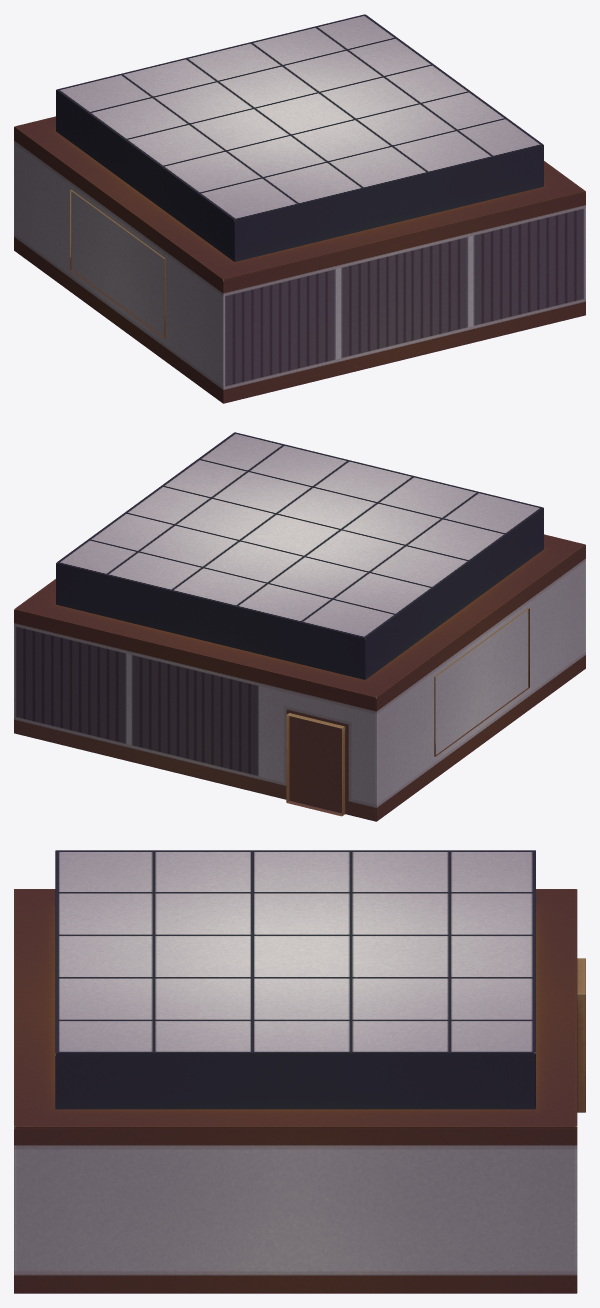
File: office.obj
The picture shows the model from 3 angles, top to bottom: view 1: azimuth 30°, elevation 25°; view 2: azimuth 150°, elevation 25°; view 3: azimuth 270°, elevation 25°; orthographic projection. The views are drawn at different scales.
Parts seen in each view (by area): view 1: Office; view 2: Office; view 3: Office.
Part boxes in pixels (x1,y1,x2,y2): Office: (14,14,585,403); Office: (14,432,585,821); Office: (14,850,585,1293).
Bounding box in the file's own units: 4.3 × 1.87 × 4.34.
3 materials, 3 textured.
